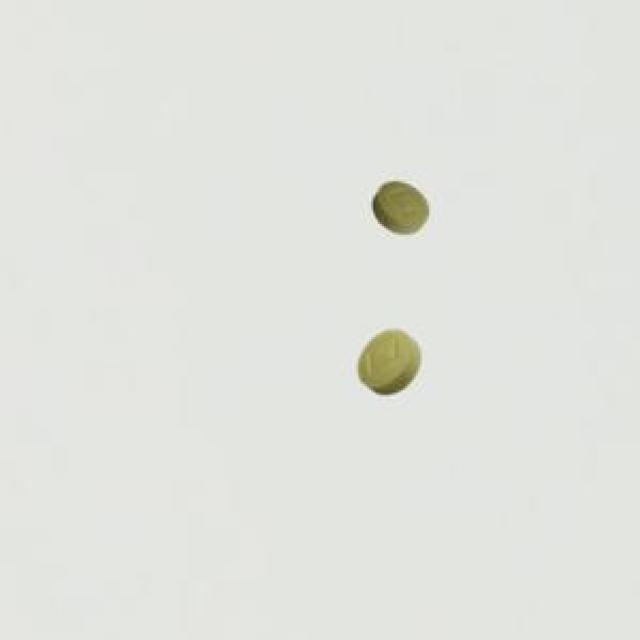Decolgen: (351, 320, 426, 404), (362, 167, 435, 246)
